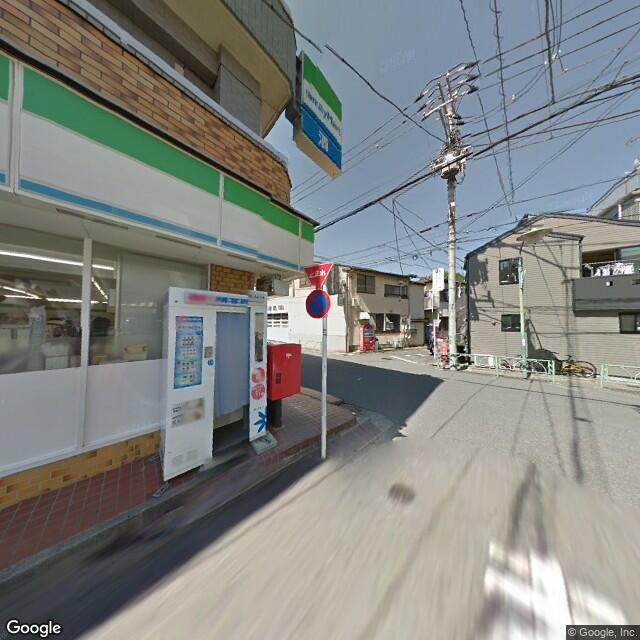family_mart: (1, 50, 314, 271), (298, 48, 344, 165)
